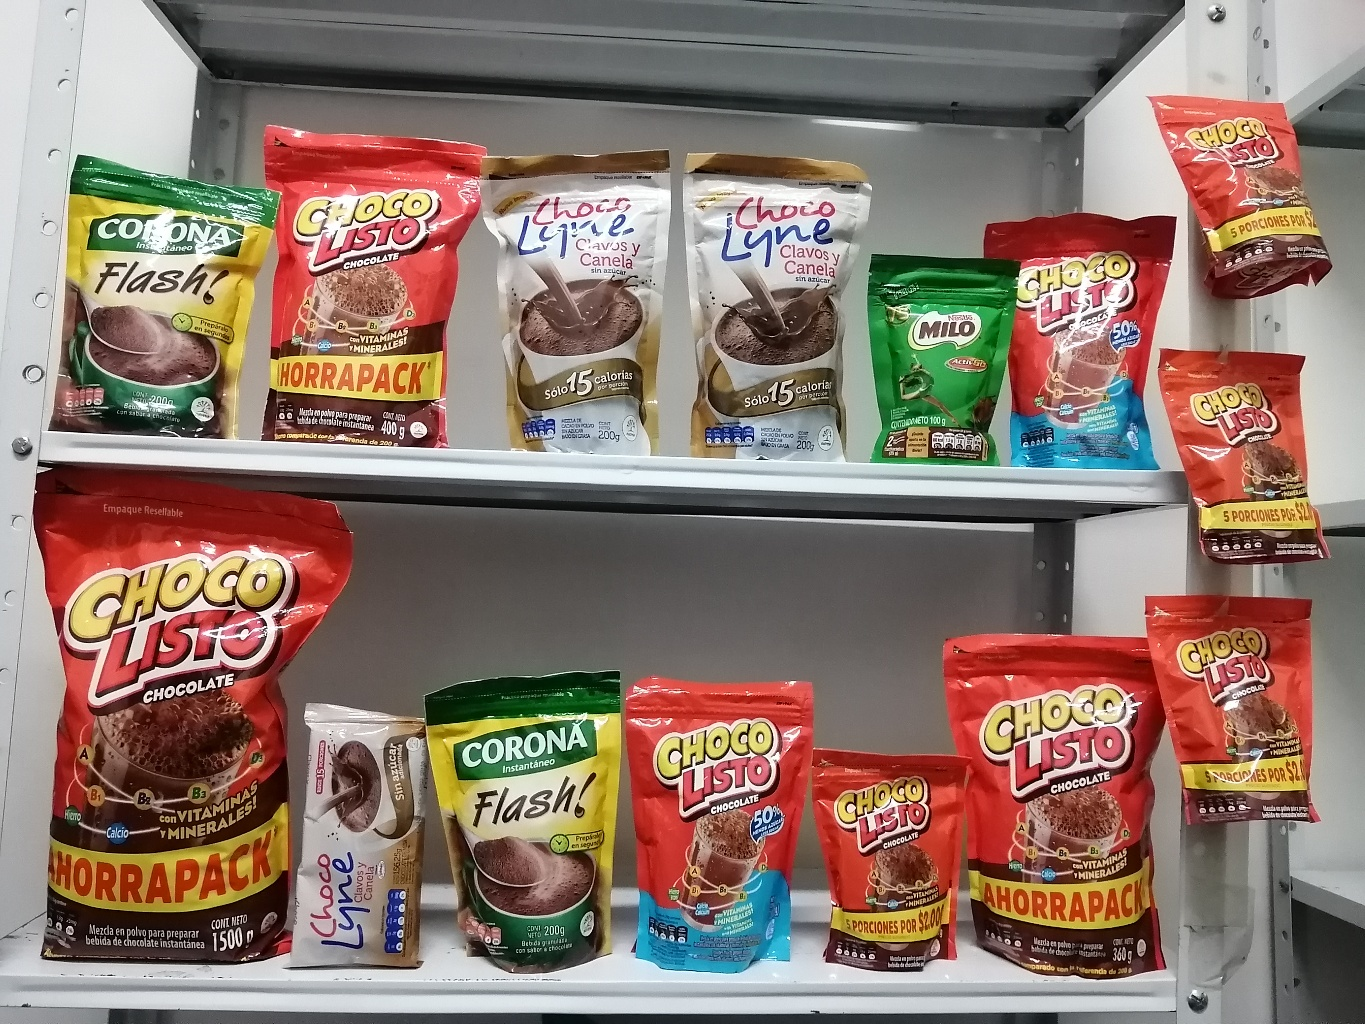COL0170103DYP1,500: (24, 459, 352, 970)
COL0170103DYP10000: (1152, 91, 1330, 298)
COL0170103DYP36000: (936, 611, 1188, 984)
COL0170103DYP40000: (229, 116, 509, 444)
COL0170104DYP20000: (991, 190, 1182, 479)
COL0170203DYP10000: (865, 250, 1013, 467)
